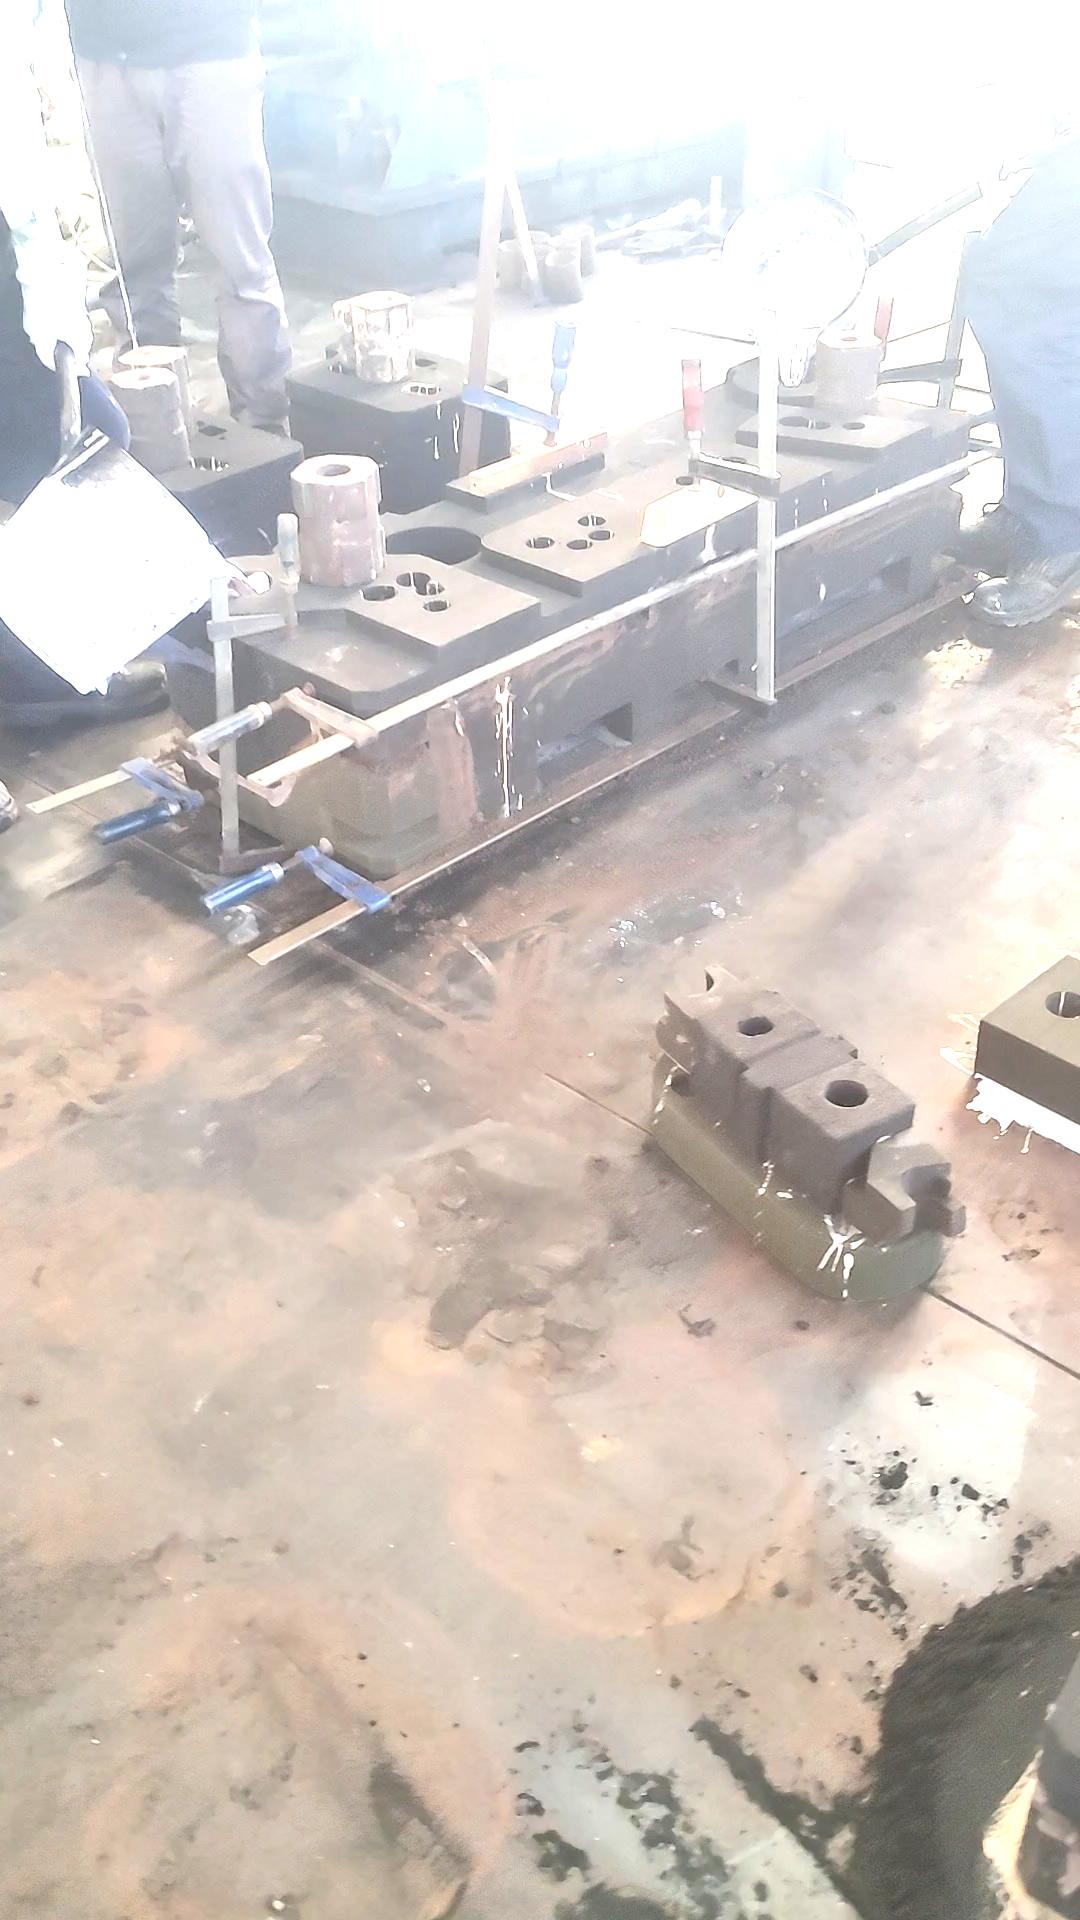pouring hole: (225, 570, 272, 597), (771, 361, 812, 390), (1043, 989, 1077, 1017), (129, 376, 162, 401), (356, 324, 384, 348), (545, 251, 578, 266), (559, 224, 595, 237), (516, 229, 550, 243), (497, 237, 525, 253), (524, 245, 555, 258), (545, 235, 582, 245)
